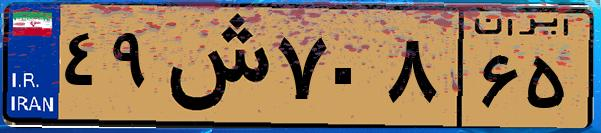0: (330, 28, 385, 110)
4: (57, 26, 110, 100)
5: (525, 38, 570, 115)
6: (475, 38, 525, 113)
7: (270, 28, 330, 110)
8: (385, 28, 445, 110)
9: (110, 28, 158, 98)
ش: (158, 12, 270, 120)
